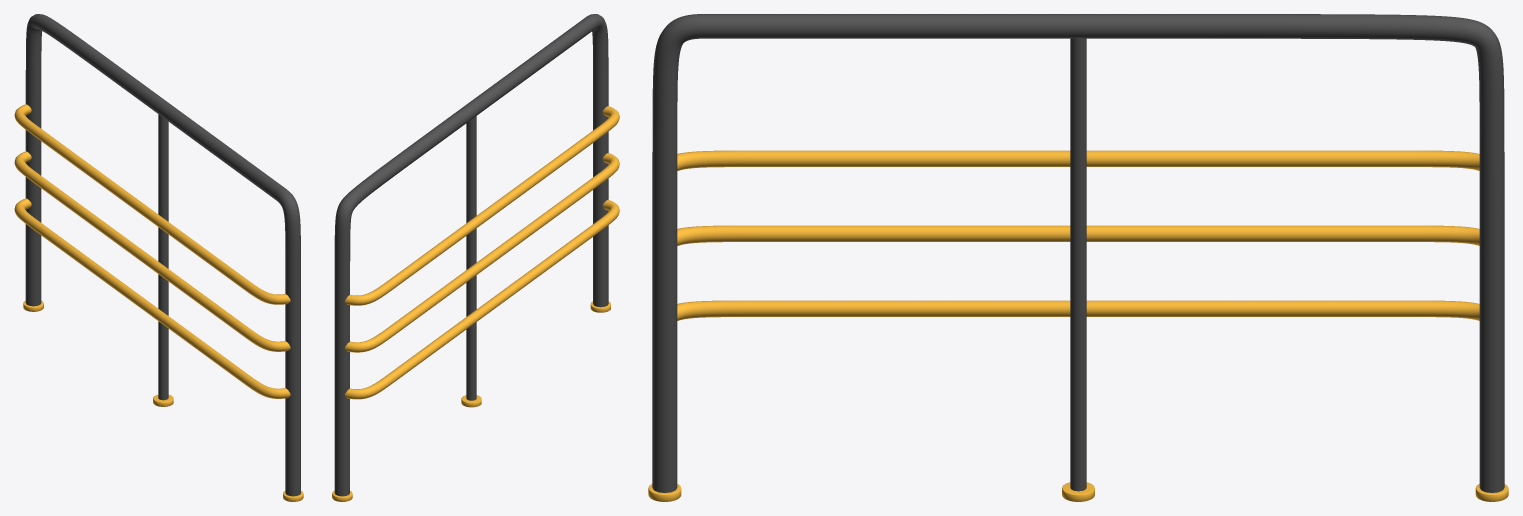
File: Ringhiera2x1.fbx
3 views of the same model, side by side, from view 1: azimuth 30°, elevation 25°; view 2: azimuth 150°, elevation 25°; view 3: azimuth 270°, elevation 25° (orthographic). The views are drawn at different scales.
Parts seen in each view (by area): view 1: MainStruct, BarraOriz2, BarraOriz1, BarraOriz3, BarraVert, Cilindro.002; view 2: MainStruct, BarraOriz1, BarraOriz2, BarraOriz3, BarraVert, Cilindro.002; view 3: MainStruct, BarraOriz3, BarraOriz1, BarraOriz2, BarraVert, Cilindro.002.
Part boxes in pixels (x1,y1,x2,y2): MainStruct: [25, 14, 300, 496]; BarraOriz2: [14, 198, 290, 398]; BarraOriz1: [14, 151, 290, 351]; BarraOriz3: [14, 104, 290, 304]; BarraVert: [158, 114, 168, 400]; Cilindro.002: [23, 300, 303, 501]; MainStruct: [334, 14, 608, 496]; BarraOriz1: [345, 153, 619, 352]; BarraOriz2: [345, 199, 619, 399]; BarraOriz3: [345, 106, 619, 305]; BarraVert: [466, 116, 476, 400]; Cilindro.002: [332, 301, 610, 501]; MainStruct: [652, 14, 1504, 492]; BarraOriz3: [677, 150, 1479, 170]; BarraOriz1: [677, 225, 1479, 245]; BarraOriz2: [677, 300, 1479, 320]; BarraVert: [1070, 37, 1086, 491]; Cilindro.002: [648, 482, 1508, 501].
Size of the model in its own units: 15.96 by 128 by 208.
